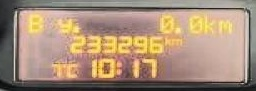-: (70, 24, 78, 33), (173, 25, 180, 32)
0: (97, 57, 113, 77), (157, 13, 172, 33), (187, 14, 202, 34)
1: (130, 58, 138, 77), (88, 58, 95, 77)
2: (68, 34, 83, 53), (115, 34, 130, 53)
3: (83, 34, 100, 53), (100, 34, 115, 53)
6: (147, 34, 162, 53)
7: (138, 57, 155, 77), (50, 61, 60, 75)
9: (132, 35, 147, 52)
X: (25, 12, 43, 32), (55, 15, 70, 32), (215, 18, 231, 33), (202, 14, 213, 34), (63, 61, 77, 76), (113, 60, 120, 74), (170, 36, 180, 45), (161, 35, 170, 45)
